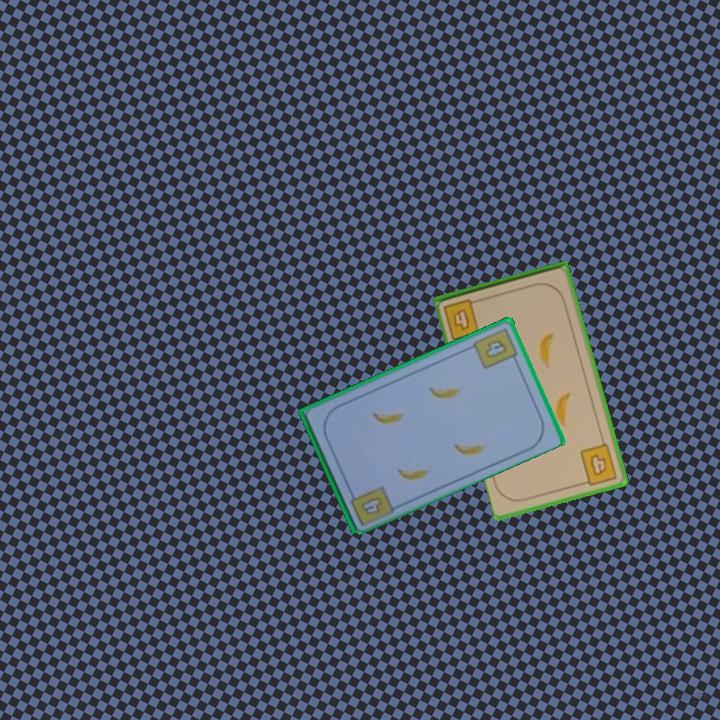4b: (469, 324, 521, 372), (440, 295, 484, 343), (577, 440, 620, 488), (357, 493, 386, 518)
